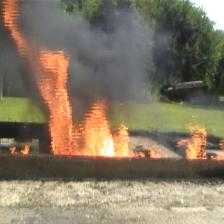fire: (3, 1, 146, 158), (176, 123, 209, 159), (21, 144, 30, 154)
